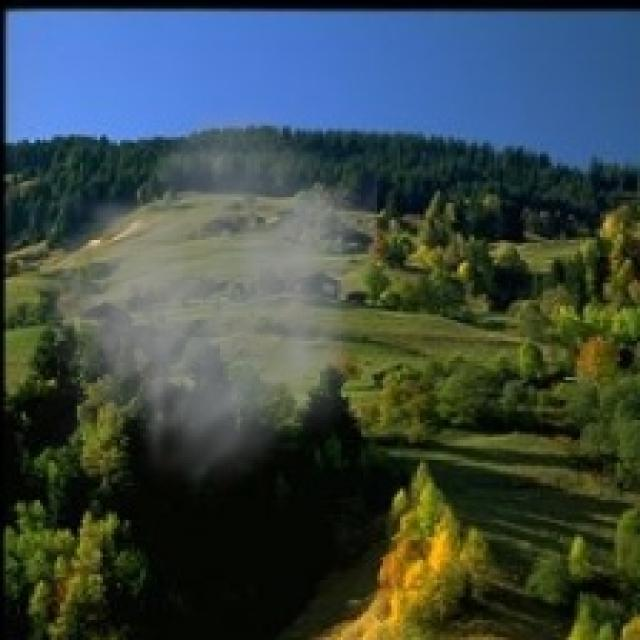smoke: (12, 91, 377, 500)
